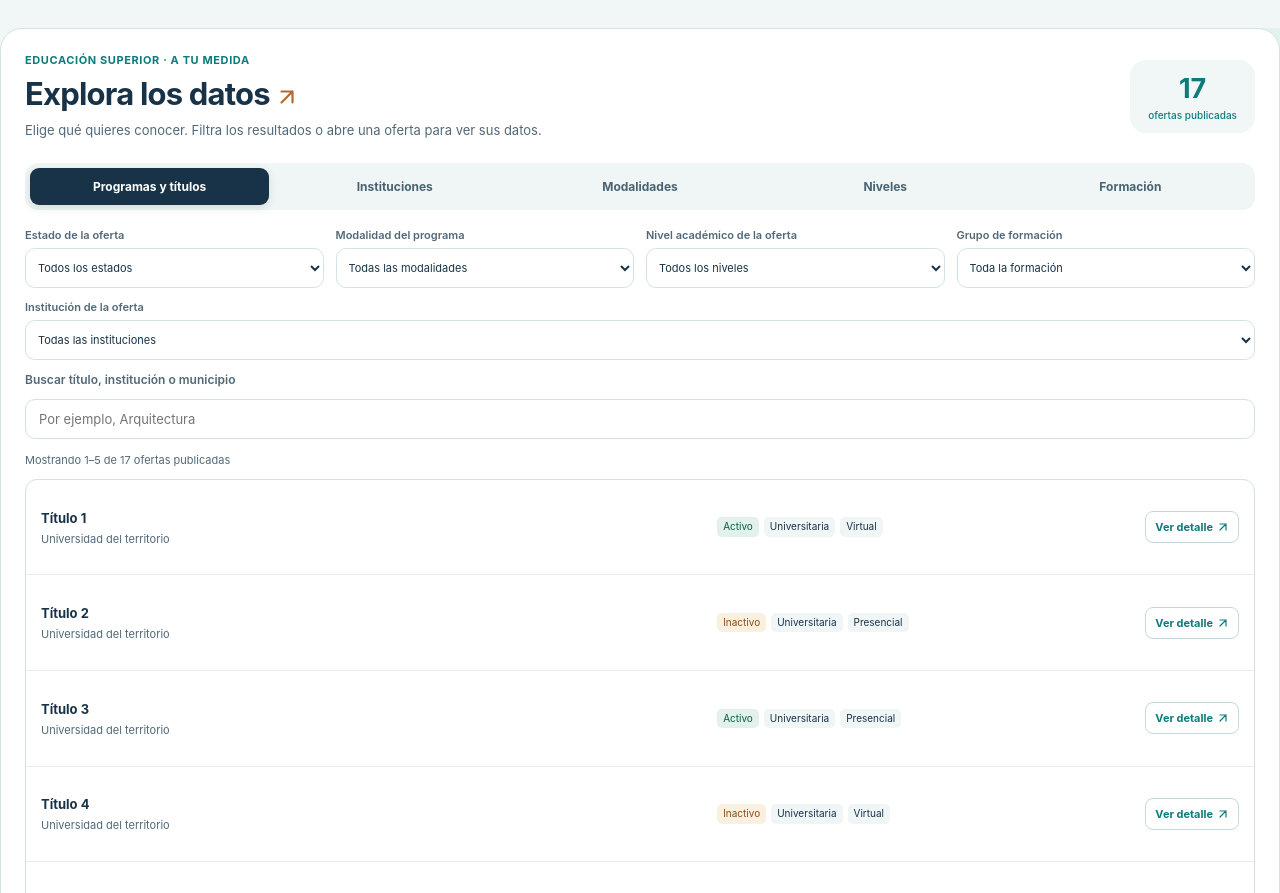
Test case: explorador de educación superior › explora modalidades y niveles con sus activos e inactivos y botones de oferta explícitos
This screenshot has width=1280, height=893.
Click the tab "Modalidades" at point(640, 186), box [520,168,760,205]
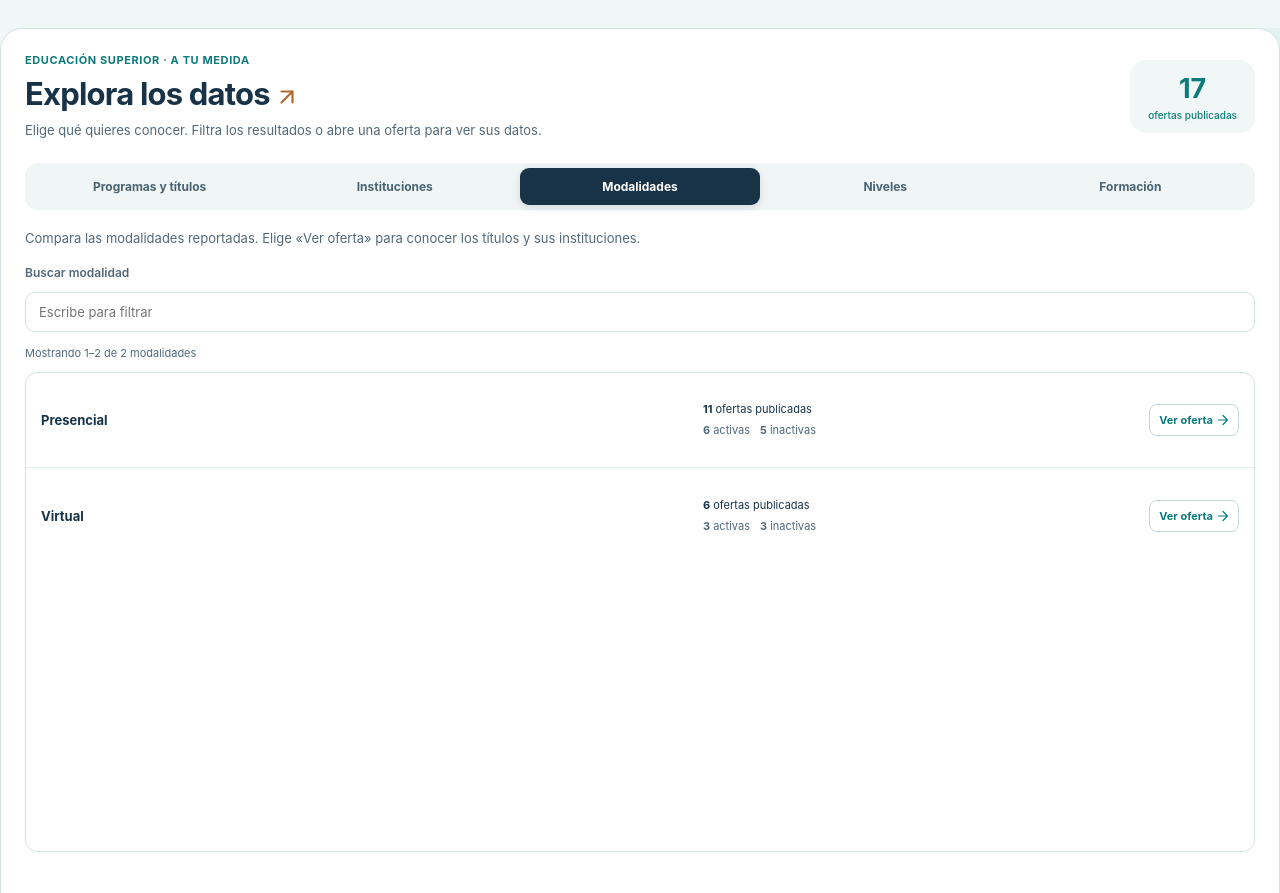
Check: the text "6" in the row of "Virtual" is shown, box [703,498,710,512]
Check: the text "3" is shown 2 times, box [703,519,710,533]; [760,519,767,533]
Click the button with aria-label "Ver oferta de Virtual" at point(1194, 516), box [1149,500,1239,532]
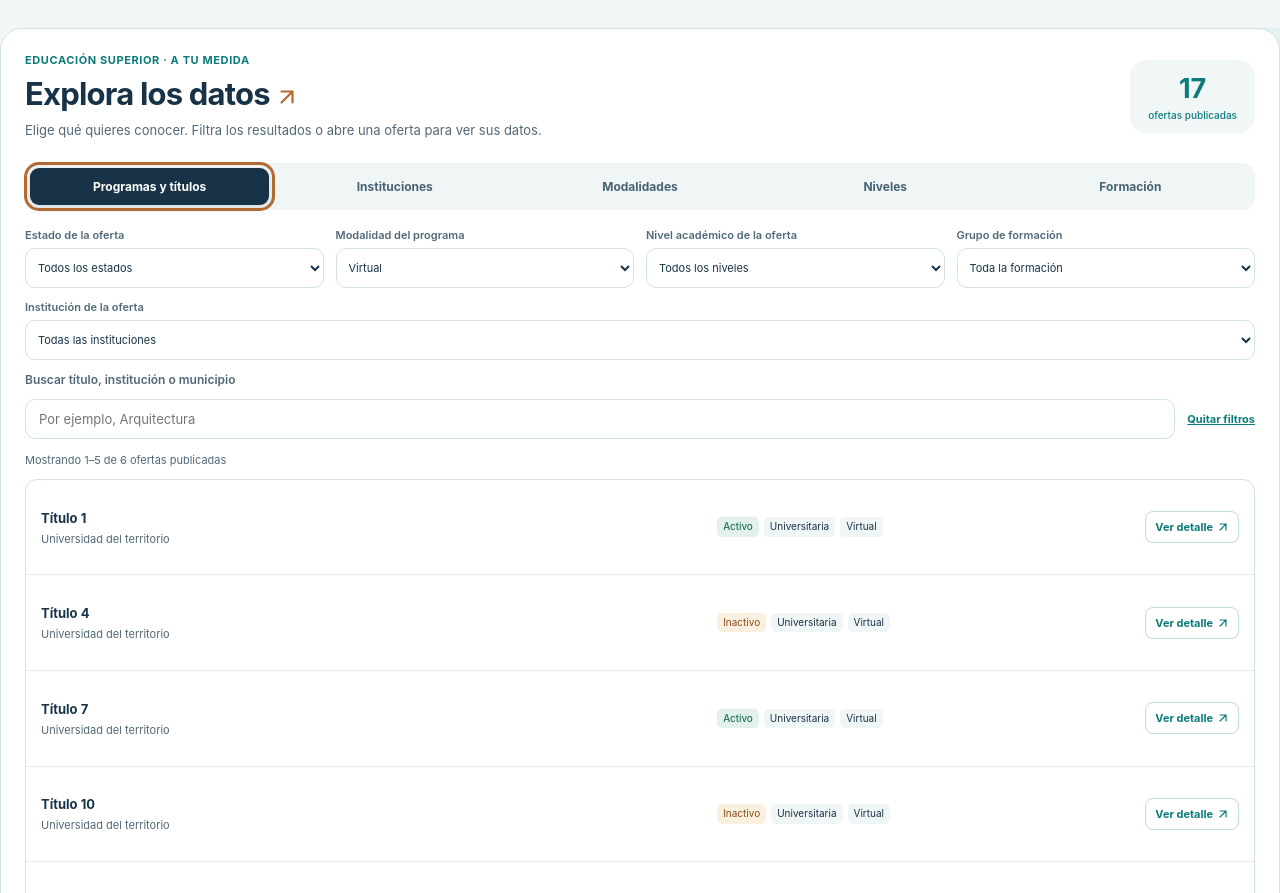
Check: the dropdown labelled "Modalidad del programa" shows "Virtual", box [336,248,634,288]
Check: the message shows "1–5 de 6 ofertas publicadas", box [25,453,226,467]
Click the tab "Niveles" at point(885, 186), box [766,168,1005,205]
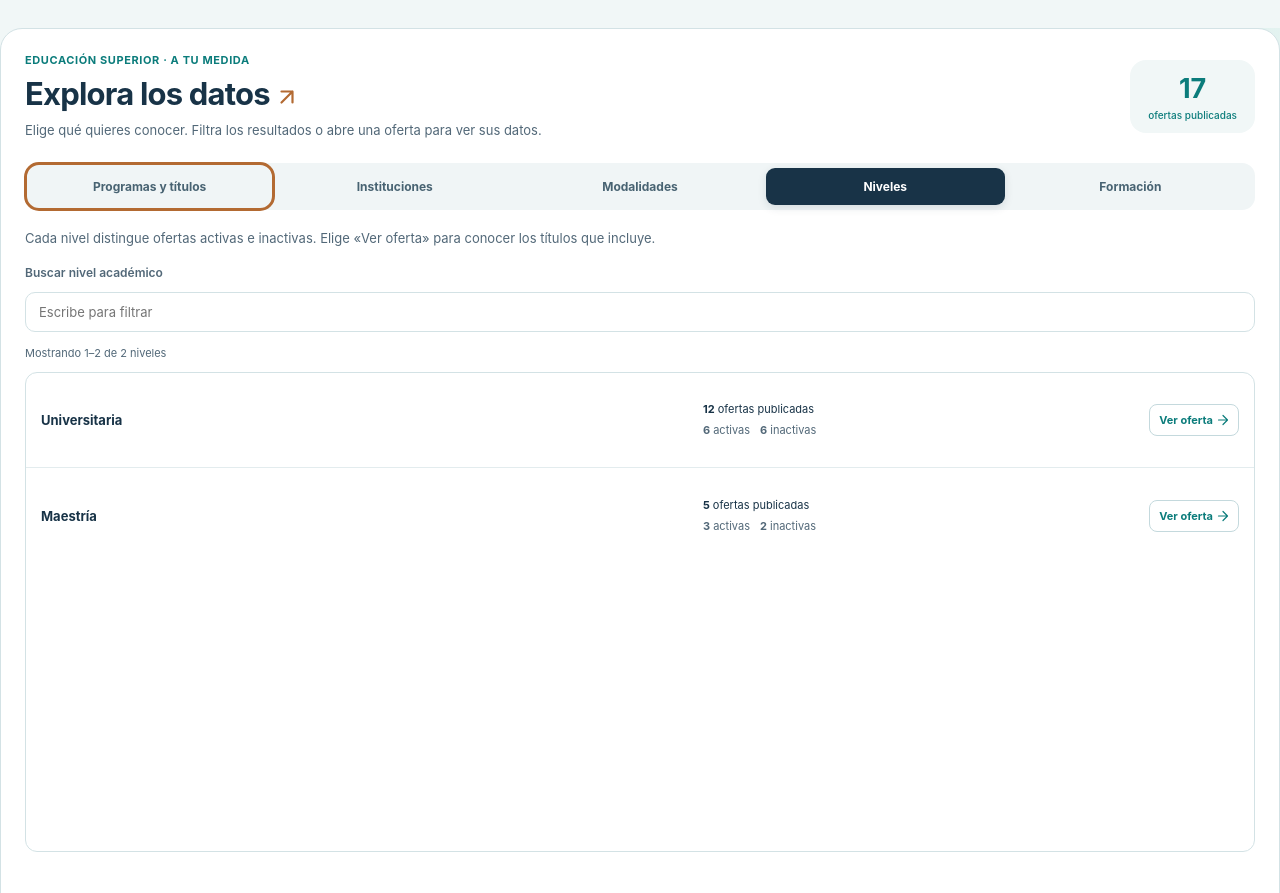
Click the button with aria-label "Ver oferta de Maestría" at point(1194, 516), box [1149,500,1239,532]
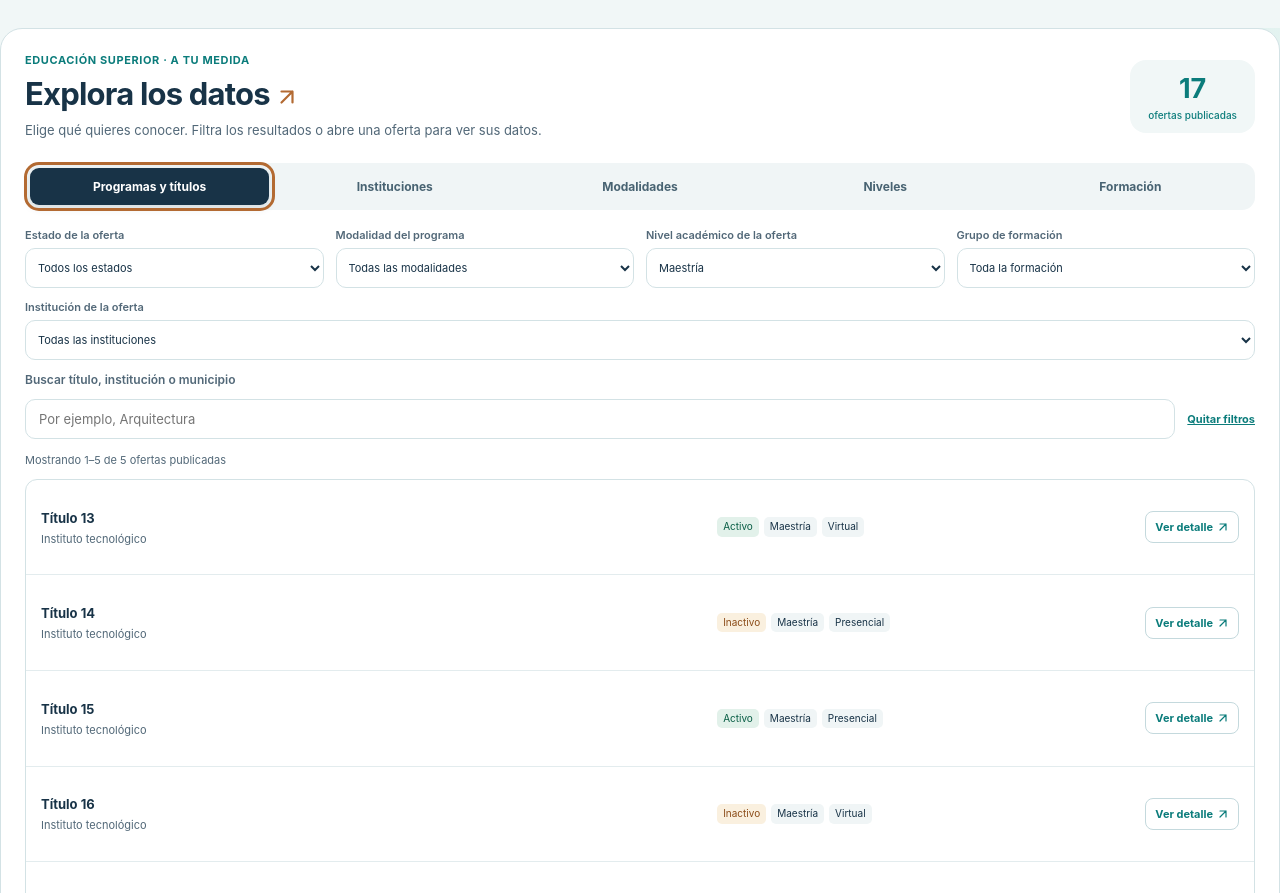
Check: the dropdown labelled "Nivel académico de la oferta" shows "Maestría", box [646,248,944,288]
Check: the dropdown labelled "Modalidad del programa" shows "Todas las modalidades", box [336,248,634,288]
Check: the message shows "1–5 de 5 ofertas publicadas", box [25,453,226,467]
